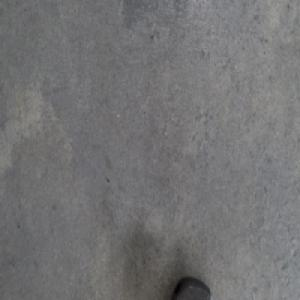AdjustableWrench: (171, 275, 210, 299)
